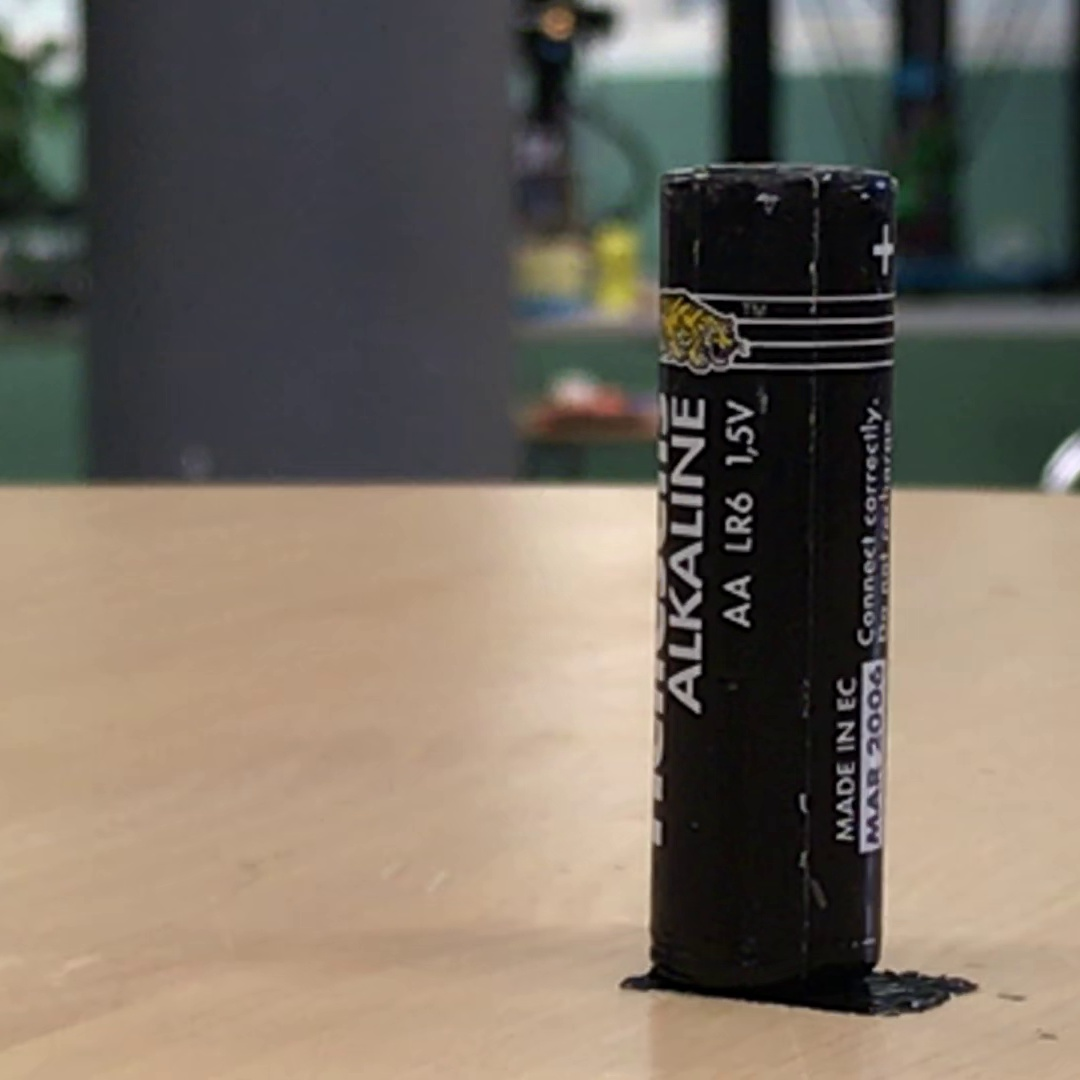keyword: (659, 595, 711, 723)
